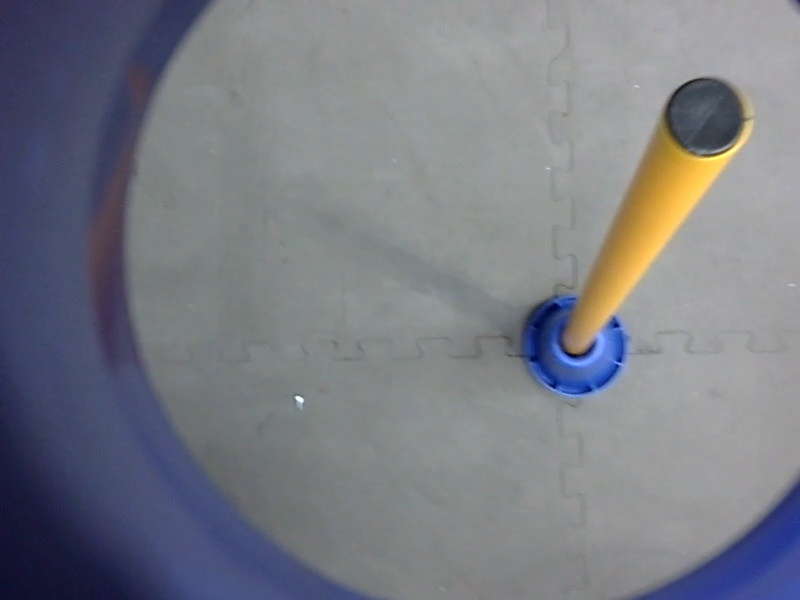tip: (658, 70, 757, 166)
